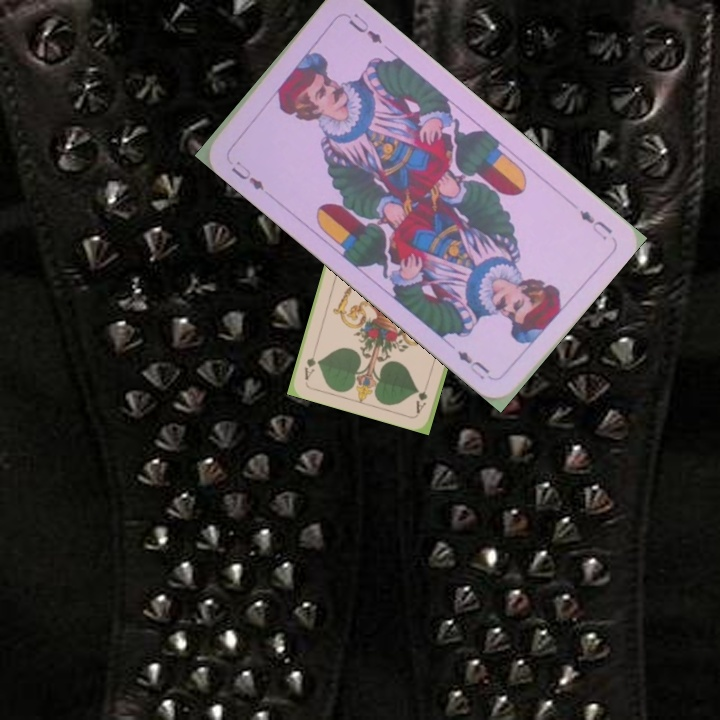EU: (227, 156, 268, 194), (575, 205, 616, 243)
GA: (412, 376, 432, 415)
